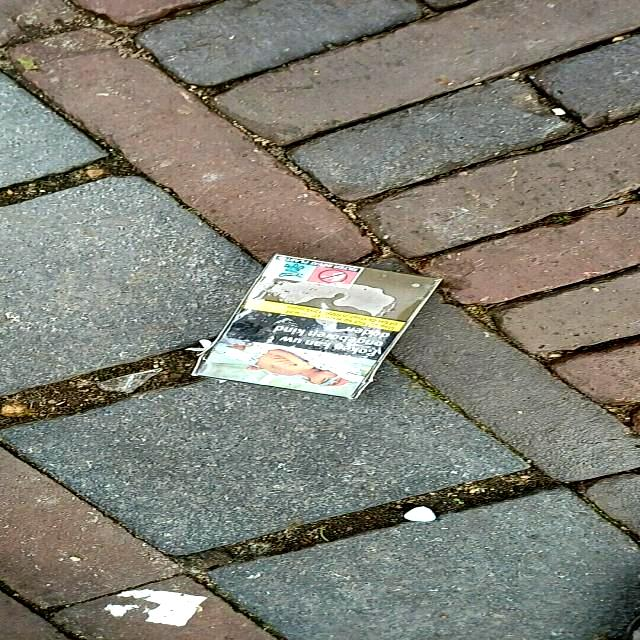Paper: (184, 253, 443, 401)
